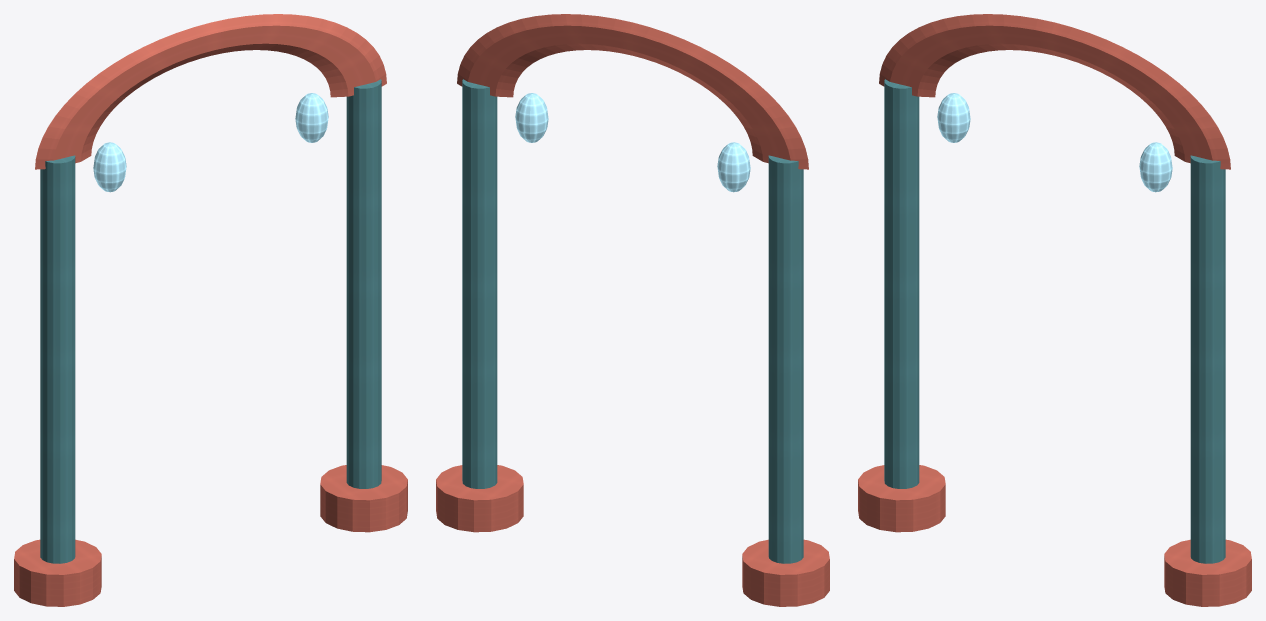
Rendered from atlas100-s071-a09.glb.
3 views of the same model, side by side, from view 1: azimuth 30°, elevation 25°; view 2: azimuth 150°, elevation 25°; view 3: azimuth 330°, elevation 25° (orthographic).
Parts seen in each view (by area): view 1: atlas100-s071-a09:part-004, atlas100-s071-a09:part-000, atlas100-s071-a09:part-002, atlas100-s071-a09:part-001, atlas100-s071-a09:part-003, atlas100-s071-a09:part-005, atlas100-s071-a09:part-006; view 2: atlas100-s071-a09:part-004, atlas100-s071-a09:part-000, atlas100-s071-a09:part-002, atlas100-s071-a09:part-001, atlas100-s071-a09:part-003, atlas100-s071-a09:part-005, atlas100-s071-a09:part-006; view 3: atlas100-s071-a09:part-004, atlas100-s071-a09:part-002, atlas100-s071-a09:part-000, atlas100-s071-a09:part-003, atlas100-s071-a09:part-001, atlas100-s071-a09:part-005, atlas100-s071-a09:part-006.
Boxes of the visible parts, x1,y1,x2,y2 form: atlas100-s071-a09:part-004: (35, 14, 386, 169); atlas100-s071-a09:part-000: (40, 155, 75, 563); atlas100-s071-a09:part-002: (346, 79, 381, 488); atlas100-s071-a09:part-001: (14, 539, 101, 606); atlas100-s071-a09:part-003: (320, 465, 407, 532); atlas100-s071-a09:part-005: (93, 142, 126, 192); atlas100-s071-a09:part-006: (295, 93, 328, 142); atlas100-s071-a09:part-004: (457, 14, 808, 169); atlas100-s071-a09:part-000: (768, 155, 803, 563); atlas100-s071-a09:part-002: (462, 79, 497, 488); atlas100-s071-a09:part-001: (742, 539, 829, 606); atlas100-s071-a09:part-003: (436, 465, 523, 532); atlas100-s071-a09:part-005: (717, 142, 750, 192); atlas100-s071-a09:part-006: (515, 93, 548, 142); atlas100-s071-a09:part-004: (879, 14, 1230, 169); atlas100-s071-a09:part-002: (1190, 155, 1225, 563); atlas100-s071-a09:part-000: (884, 79, 919, 488); atlas100-s071-a09:part-003: (1164, 539, 1251, 606); atlas100-s071-a09:part-001: (858, 465, 945, 532); atlas100-s071-a09:part-005: (937, 93, 970, 142); atlas100-s071-a09:part-006: (1139, 142, 1172, 192).
Size of the model in its own units: 2.5 by 3.3 by 0.5.
Materials: 3 (3 with a texture image).
